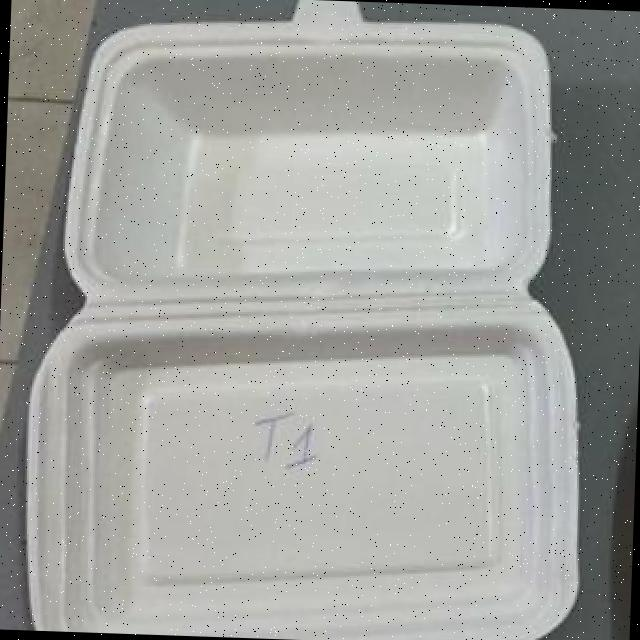styrofoam: (15, 0, 601, 640)
